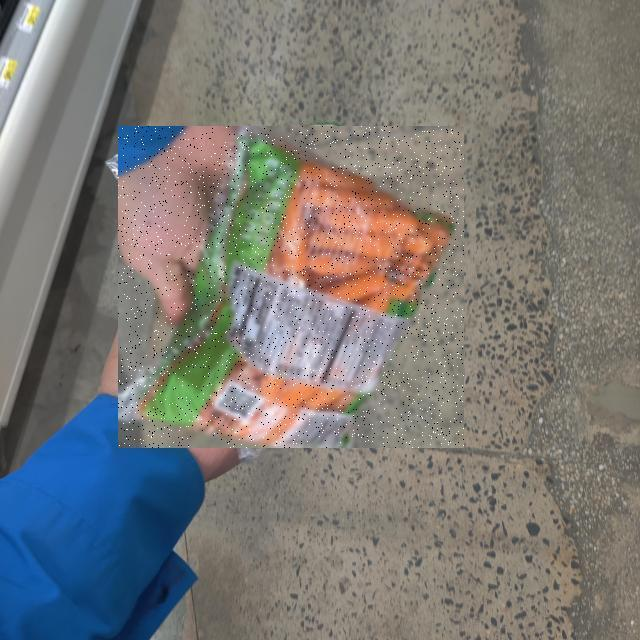Carrot: (118, 126, 464, 448)
